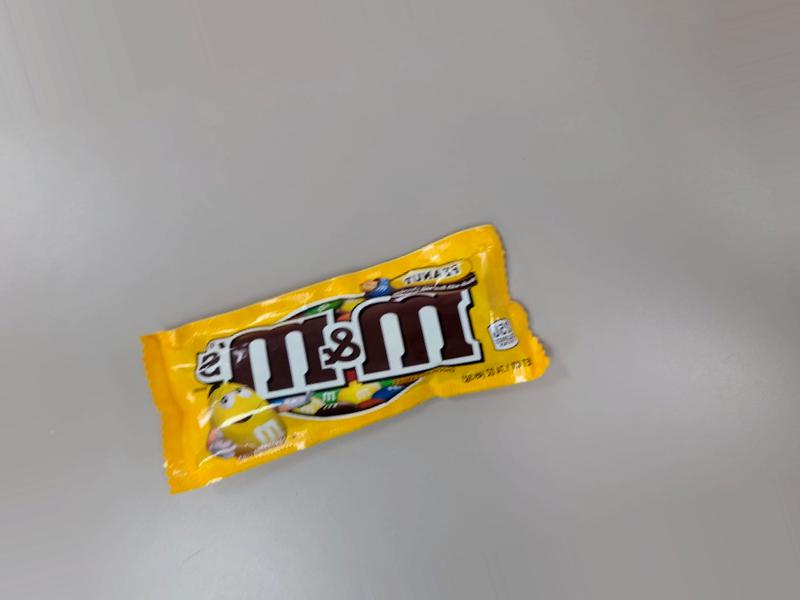m&m: (132, 217, 543, 524)
